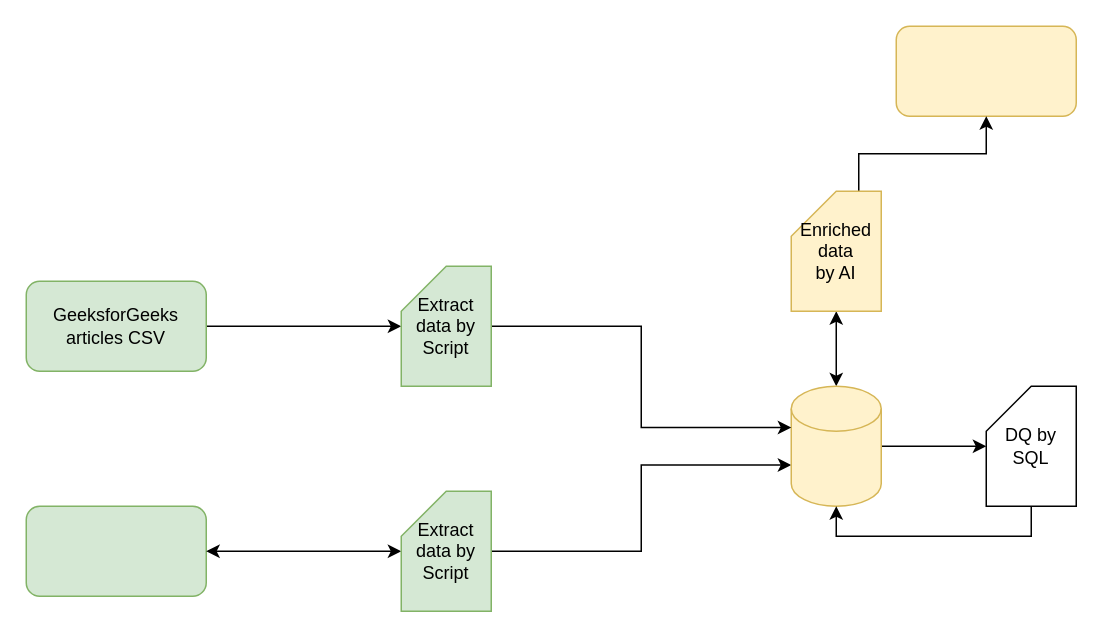
This 1103x638 diagram has some shape labels left out. The box of each missing label's shape, as (x1, y1, x2, y2) in pixels:
Medium articles scraping: (895, 25, 1076, 116)
Medium RSS: (25, 505, 206, 596)
SQL: (790, 385, 881, 506)
